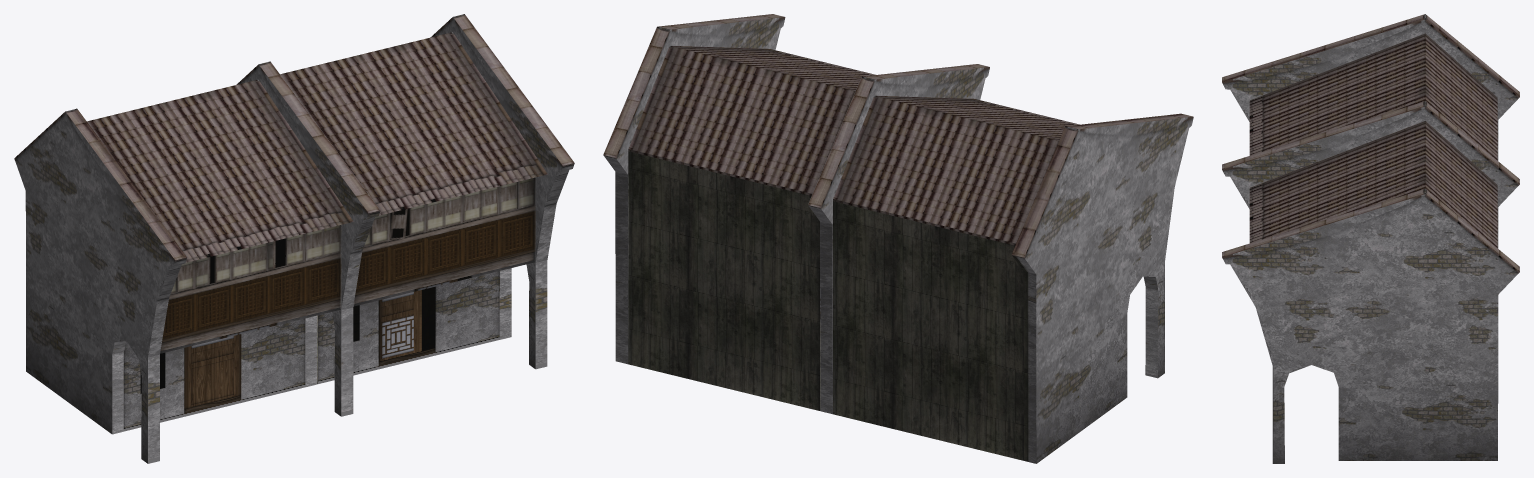
Rendered from house4_LOD2.FBX.
3 views of the same model, side by side, from view 1: azimuth 30°, elevation 25°; view 2: azimuth 150°, elevation 25°; view 3: azimuth 270°, elevation 25° (orthographic). The views are drawn at different scales.
Parts seen in each view (by area): view 1: house4_LOD2; view 2: house4_LOD2; view 3: house4_LOD2.
Part boxes in pixels (x1,y1,x2,y2): house4_LOD2: [14, 14, 574, 463]; house4_LOD2: [603, 14, 1193, 463]; house4_LOD2: [1222, 14, 1519, 463].
Size of the model in its own units: 1084 by 757 by 757.
